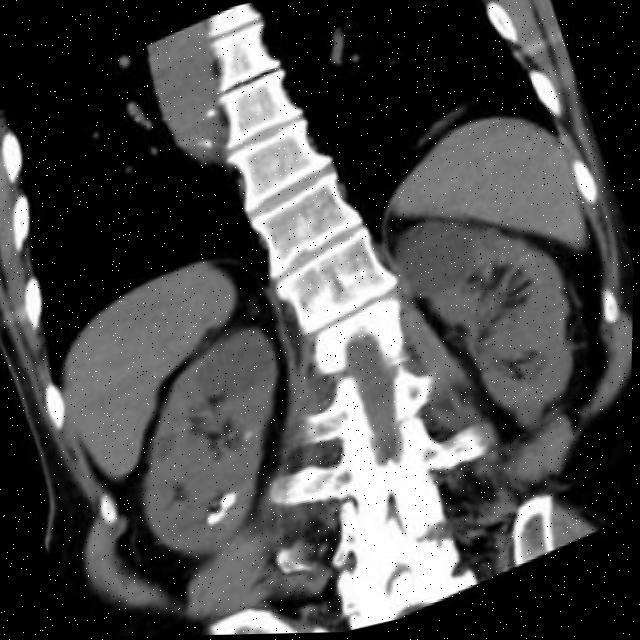Tas_Var: (220, 486, 245, 511), (204, 509, 226, 526), (243, 427, 260, 443), (219, 505, 230, 517)
